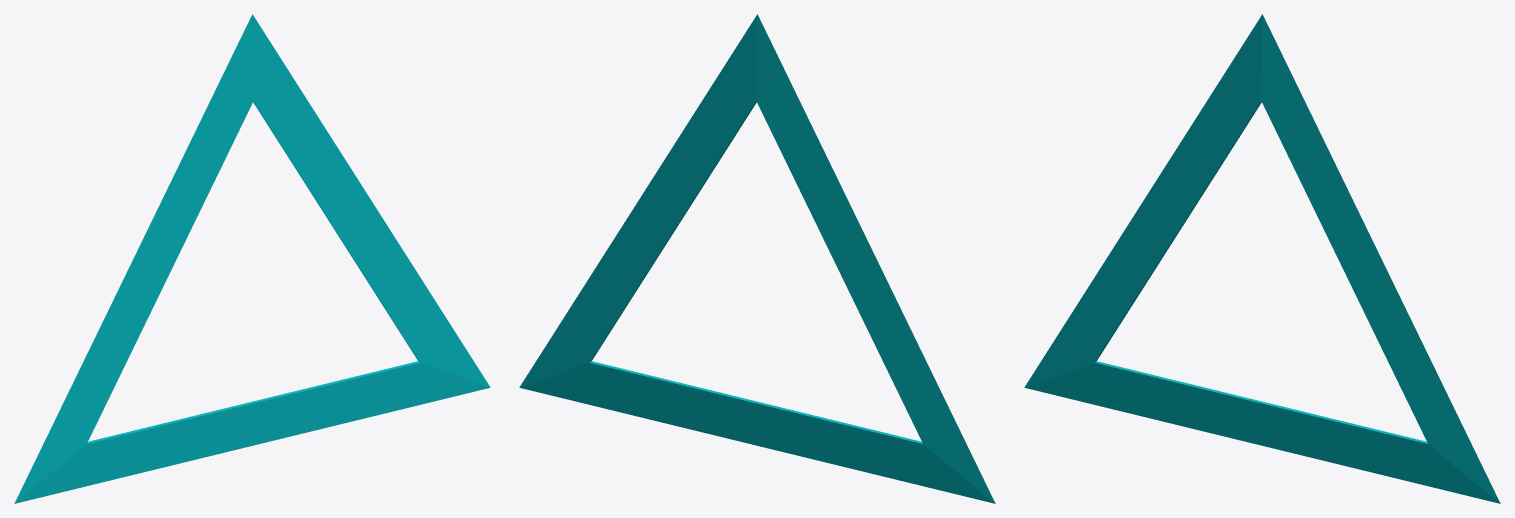
The model's file is Player.fbx.
3 views of the same model, side by side, from view 1: azimuth 30°, elevation 25°; view 2: azimuth 150°, elevation 25°; view 3: azimuth 330°, elevation 25° (orthographic).
Parts seen in each view (by area): view 1: Player; view 2: Player; view 3: Player.
Part boxes in pixels (x1,y1,x2,y2): Player: (14,14,490,503); Player: (519,14,995,503); Player: (1024,14,1500,503).
Size of the model in its own units: 73.58 by 63.72 by 0.587.
